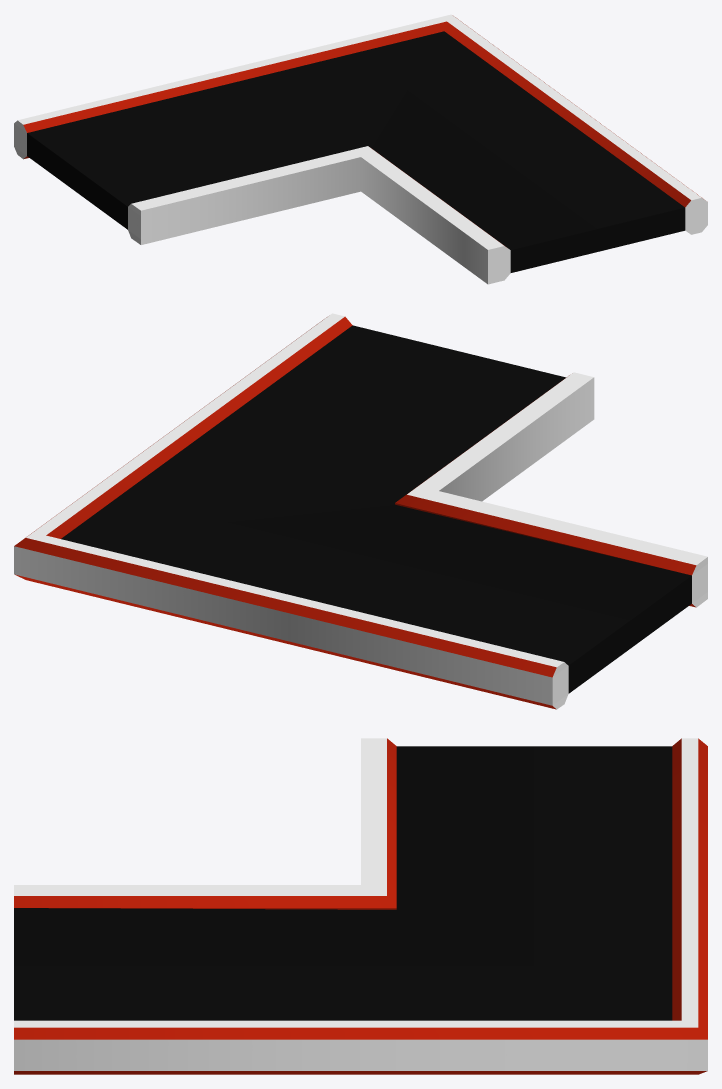
The model's file is S_assete_basement_platform_8.fbx.
3 renders of one model, top to bottom at view 1: azimuth 30°, elevation 25°; view 2: azimuth 150°, elevation 25°; view 3: azimuth 270°, elevation 25°, orthographic. The views are drawn at different scales.
Parts seen in each view (by area): view 1: platforme_6; view 2: platforme_6; view 3: platforme_6.
Boxes of the visible parts, left/top/right/bottom form: platforme_6: left=14, top=14, right=707, bottom=284; platforme_6: left=14, top=313, right=707, bottom=709; platforme_6: left=14, top=738, right=707, bottom=1074.
Size of the model in its own units: 400 by 30 by 400.
